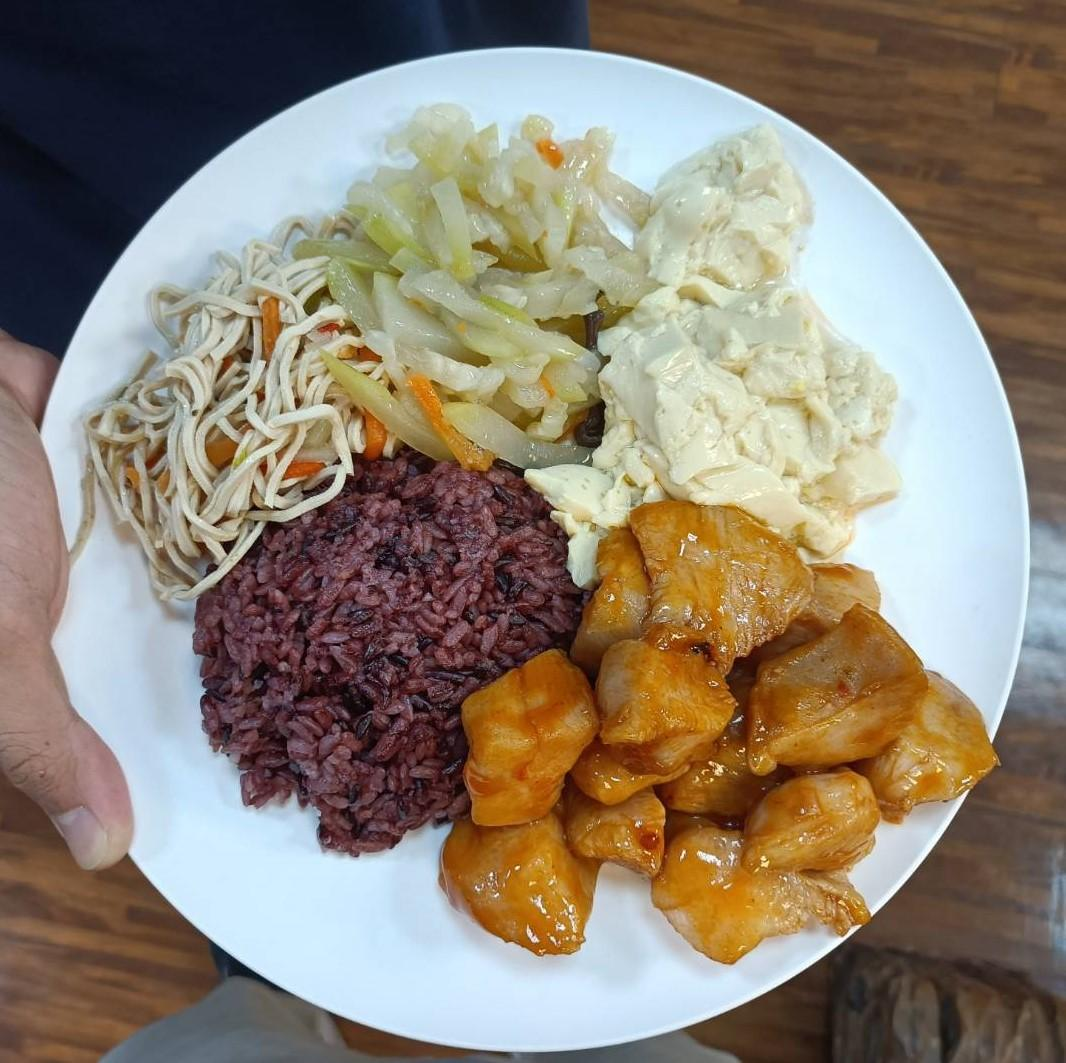big fried chicken leg: (23, 26, 1044, 1056)
braised fish: (200, 462, 568, 833)
braised fish fillet: (614, 152, 883, 556), (343, 109, 628, 456), (118, 248, 358, 580)
braised pork: (478, 524, 938, 973)
